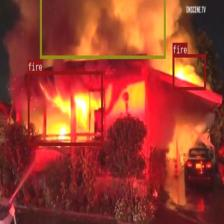fire: (28, 71, 102, 145), (172, 54, 205, 90)
smoke: (40, 0, 166, 58)
